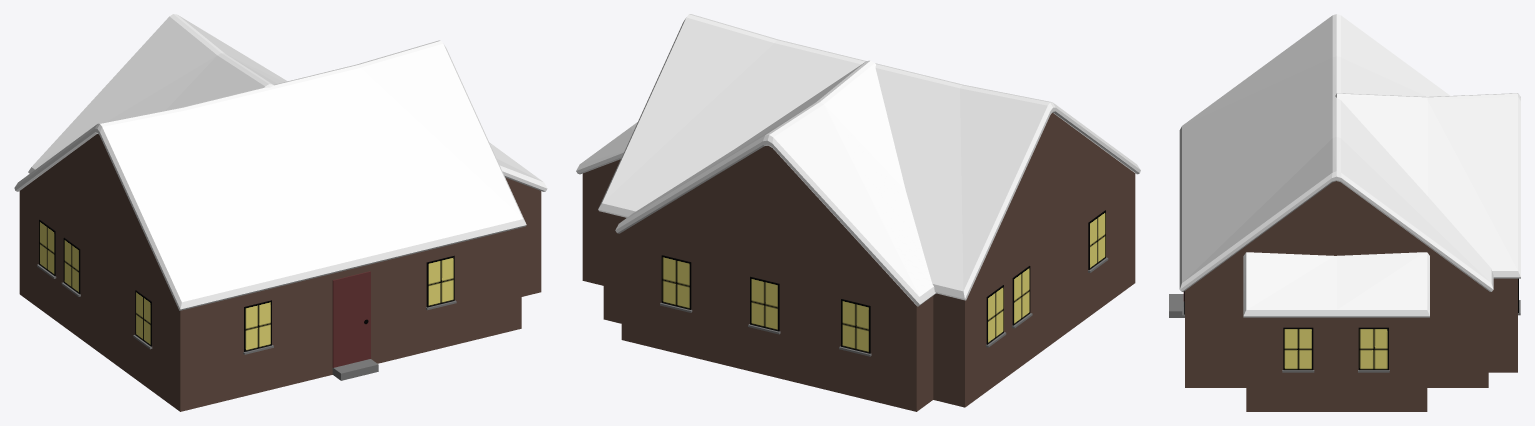
The model's file is house_1F_02.obj.
The picture shows the model from 3 angles, left to right: view 1: azimuth 30°, elevation 25°; view 2: azimuth 150°, elevation 25°; view 3: azimuth 270°, elevation 25°; orthographic projection. The views are drawn at different scales.
Size of the model in its own units: 977 by 534 by 786.
